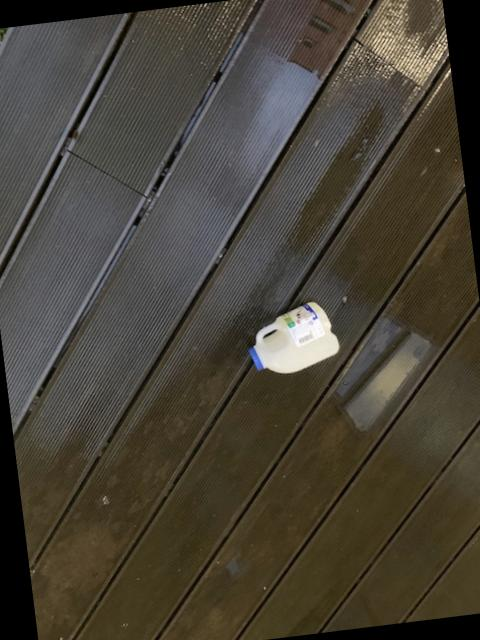plastic: (247, 303, 337, 373)
